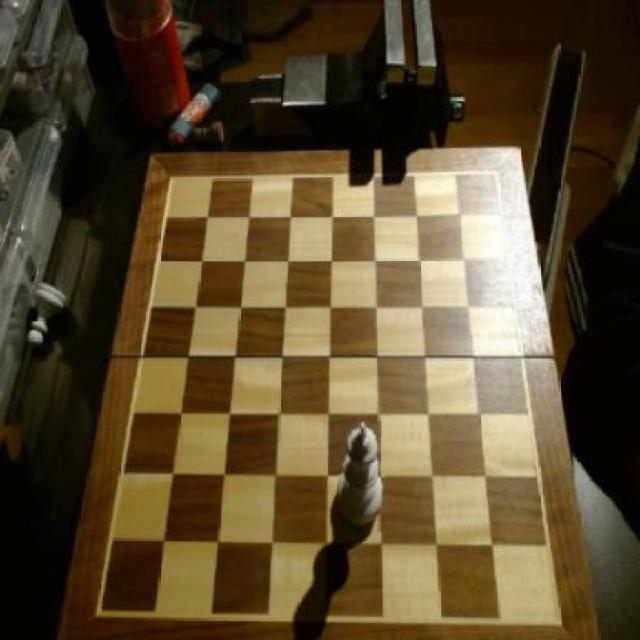white-bishop: (337, 418, 387, 532)
